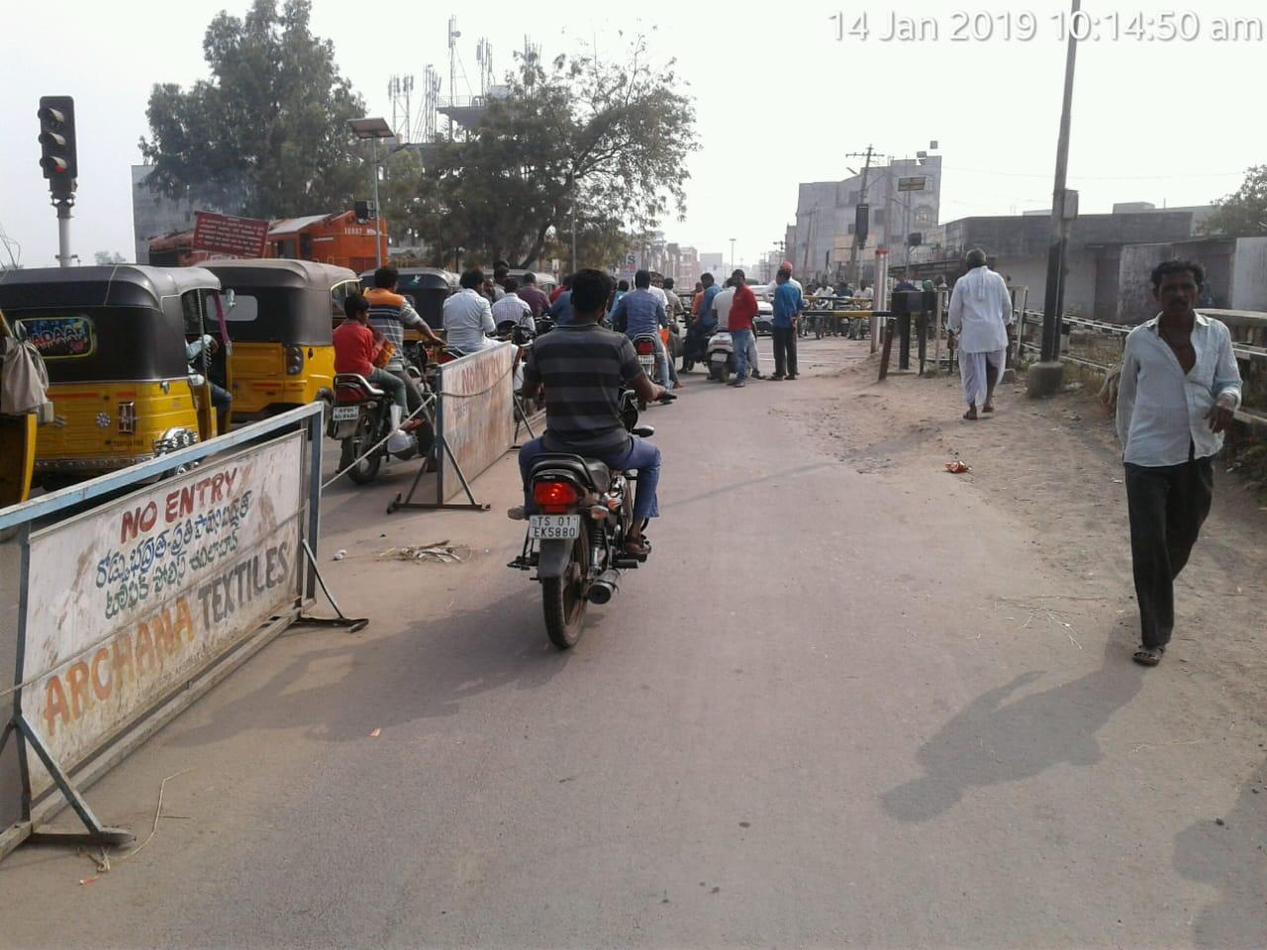plate: (521, 510, 583, 547), (330, 401, 365, 426), (634, 349, 657, 370), (710, 349, 736, 364)
